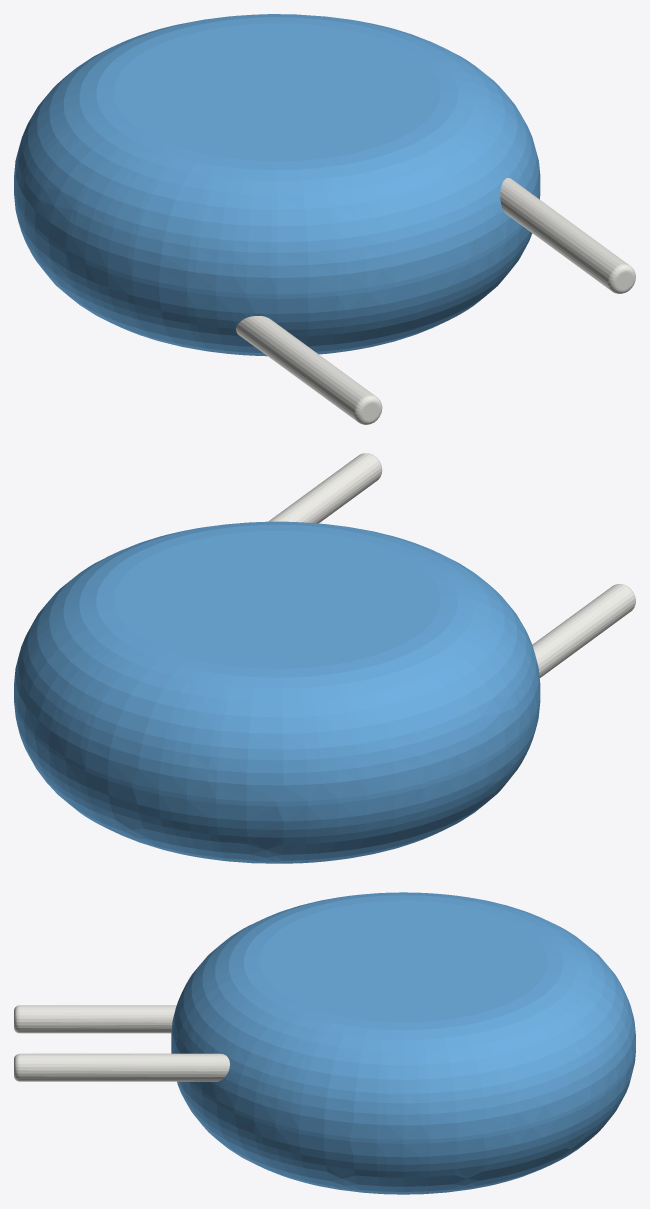
The model's file is RV_Disc_D9mm_W3.5mm_P5mm.glb.
3 renders of one model, top to bottom at view 1: azimuth 30°, elevation 25°; view 2: azimuth 150°, elevation 25°; view 3: azimuth 270°, elevation 25°, orthographic. The views are drawn at different scales.
Parts seen in each view (by area): view 1: Shape_IndexedFaceSet.001, Shape_IndexedFaceSet.003, Shape_IndexedFaceSet.002, Shape_IndexedFaceSet.006, Shape_IndexedFaceSet.004, Shape_IndexedFaceSet; view 2: Shape_IndexedFaceSet.001, Shape_IndexedFaceSet.003, Shape_IndexedFaceSet.002, Shape_IndexedFaceSet.006, Shape_IndexedFaceSet.004, Shape_IndexedFaceSet; view 3: Shape_IndexedFaceSet.001, Shape_IndexedFaceSet.003, Shape_IndexedFaceSet.002, Shape_IndexedFaceSet.004, Shape_IndexedFaceSet.006, Shape_IndexedFaceSet.
Part boxes in pixels (box(x1,y1,x2,y2)): Shape_IndexedFaceSet.001: box(14, 14, 540, 294); Shape_IndexedFaceSet.003: box(114, 23, 440, 161); Shape_IndexedFaceSet.002: box(14, 195, 540, 356); Shape_IndexedFaceSet.006: box(236, 316, 374, 420); Shape_IndexedFaceSet.004: box(500, 178, 628, 290); Shape_IndexedFaceSet: box(14, 190, 540, 298); Shape_IndexedFaceSet.001: box(14, 521, 540, 801); Shape_IndexedFaceSet.003: box(113, 531, 440, 668); Shape_IndexedFaceSet.002: box(14, 702, 540, 863); Shape_IndexedFaceSet.006: box(532, 584, 634, 677); Shape_IndexedFaceSet.004: box(268, 453, 381, 523); Shape_IndexedFaceSet: box(14, 697, 540, 806); Shape_IndexedFaceSet.001: box(171, 892, 635, 1139); Shape_IndexedFaceSet.003: box(259, 900, 547, 1022); Shape_IndexedFaceSet.002: box(171, 1052, 635, 1194); Shape_IndexedFaceSet.004: box(19, 1053, 229, 1081); Shape_IndexedFaceSet.006: box(19, 1005, 176, 1033); Shape_IndexedFaceSet: box(171, 1048, 635, 1143).
Bounding box in the file's own units: 3.54 × 1.38 × 4.73.
